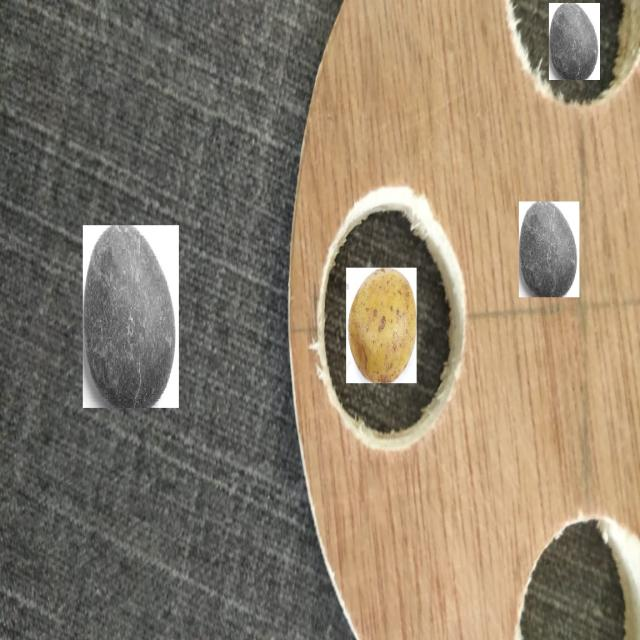potato: (350, 270, 416, 383)
